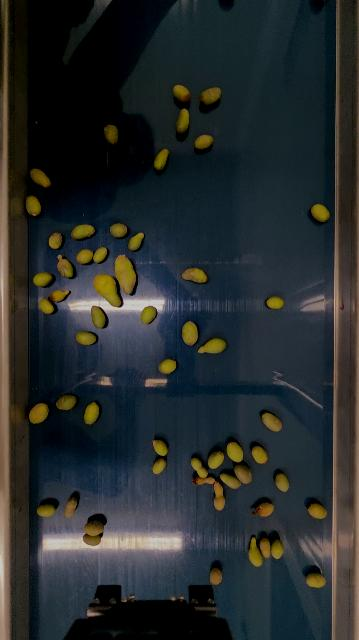Baby Potato: (90, 274, 127, 307), (113, 252, 139, 293), (169, 106, 193, 135), (25, 401, 51, 426), (197, 335, 227, 356), (244, 537, 264, 568), (29, 166, 54, 190), (180, 267, 211, 286), (260, 408, 284, 432), (199, 86, 225, 108), (89, 304, 111, 330), (226, 438, 245, 465), (69, 222, 97, 240), (72, 329, 100, 347), (101, 124, 122, 147), (55, 256, 76, 279), (182, 320, 199, 348), (85, 515, 107, 536), (212, 481, 228, 509), (310, 204, 331, 225), (233, 463, 254, 484), (192, 131, 214, 151), (169, 84, 192, 103), (250, 502, 277, 518), (188, 457, 208, 478), (72, 248, 94, 267), (218, 473, 244, 489), (251, 444, 269, 467), (153, 147, 170, 171), (84, 399, 99, 426), (269, 534, 285, 559), (308, 502, 329, 520), (25, 193, 40, 218), (34, 501, 57, 517), (31, 272, 55, 287), (158, 357, 178, 375), (55, 396, 79, 411), (207, 452, 227, 470), (142, 303, 158, 325), (129, 229, 144, 252), (274, 473, 291, 493), (307, 572, 326, 589), (151, 439, 169, 456), (93, 245, 108, 265), (47, 290, 72, 302), (83, 533, 104, 547), (151, 458, 168, 475), (47, 231, 62, 250), (261, 536, 272, 561), (110, 223, 128, 238), (267, 296, 287, 309), (64, 497, 77, 517), (40, 297, 53, 316), (209, 568, 224, 584), (194, 475, 216, 485)
